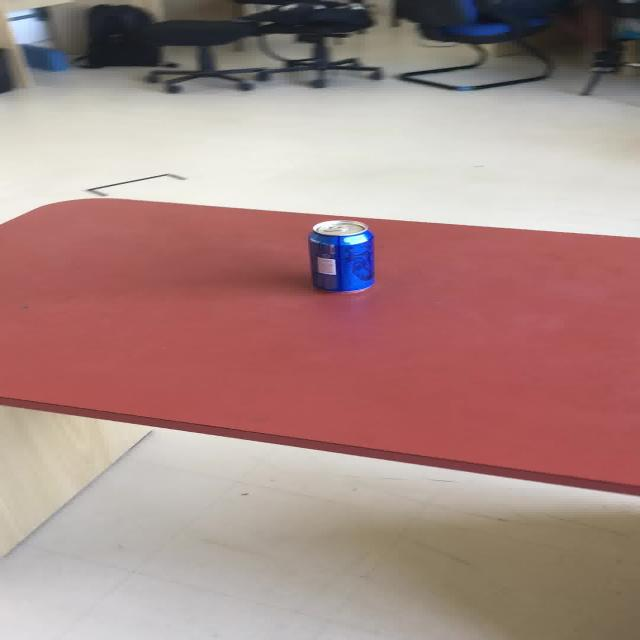tonic: (306, 219, 374, 293)
